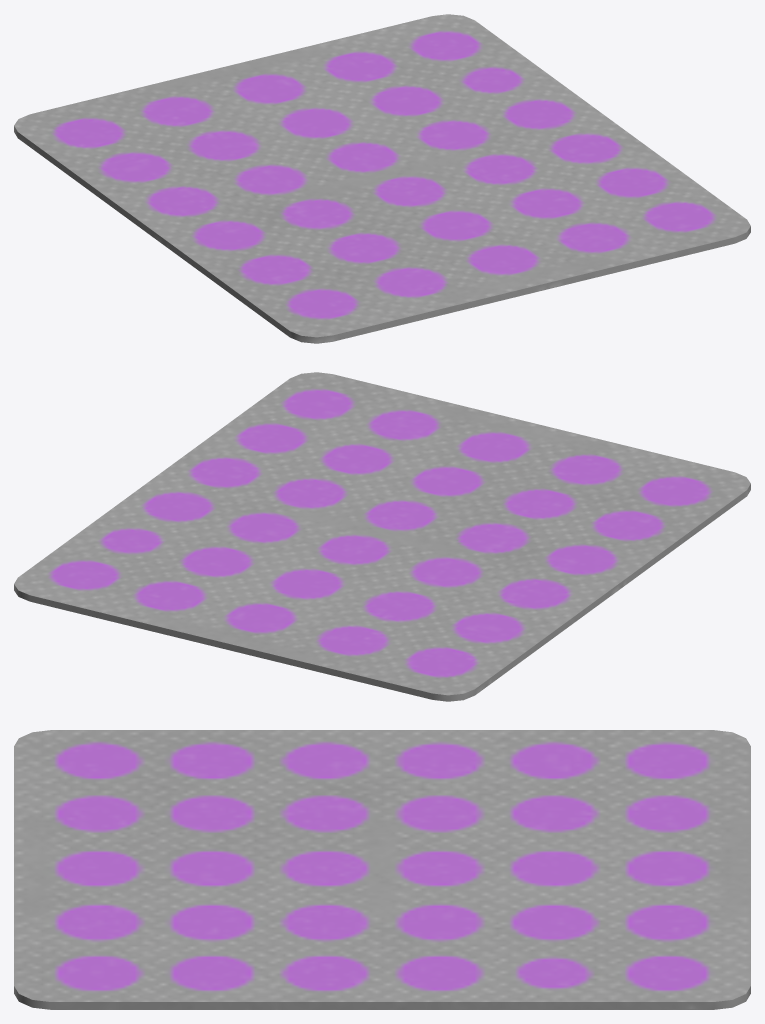
Rendered from HH_Blister_Pack_01.fbx.
The picture shows the model from 3 angles, top to bottom: view 1: azimuth 30°, elevation 25°; view 2: azimuth 150°, elevation 25°; view 3: azimuth 270°, elevation 25°; orthographic projection. The views are drawn at different scales.
Parts seen in each view (by area): view 1: HH_Blister_Pack_01; view 2: HH_Blister_Pack_01; view 3: HH_Blister_Pack_01.
Boxes of the visible parts, left/top/right/bottom form: HH_Blister_Pack_01: left=14, top=14, right=750, bottom=343; HH_Blister_Pack_01: left=14, top=372, right=750, bottom=701; HH_Blister_Pack_01: left=14, top=730, right=750, bottom=1009.
Size of the model in its own units: 13.32 by 0.1786 by 15.26.
